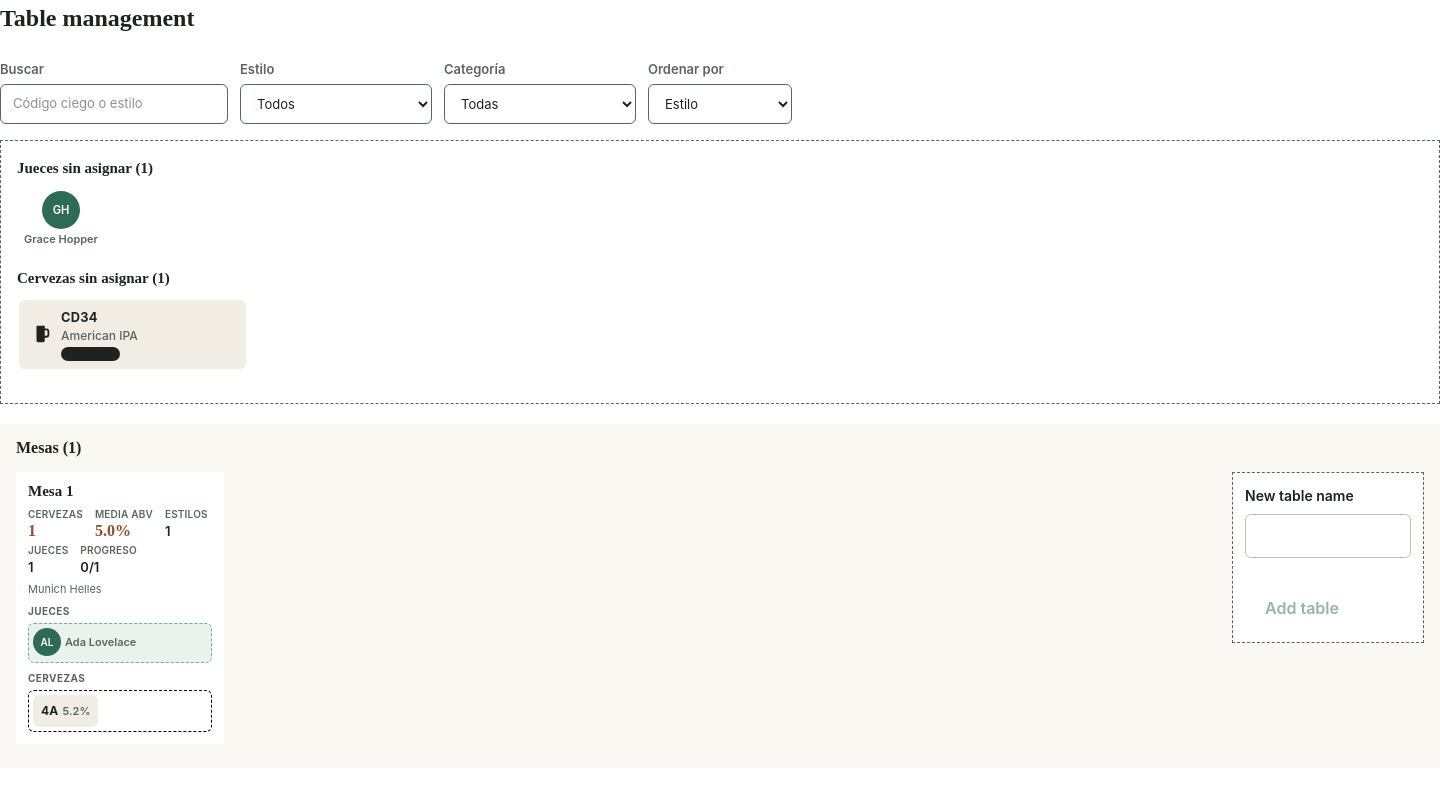
Scenario: TableBoardComponent › surfaces a validation error message when table creation fails with 400
Type "Mesa 1" into the field with id "new-table-name". click: point(1328, 536)
box: [1245,514,1411,558]
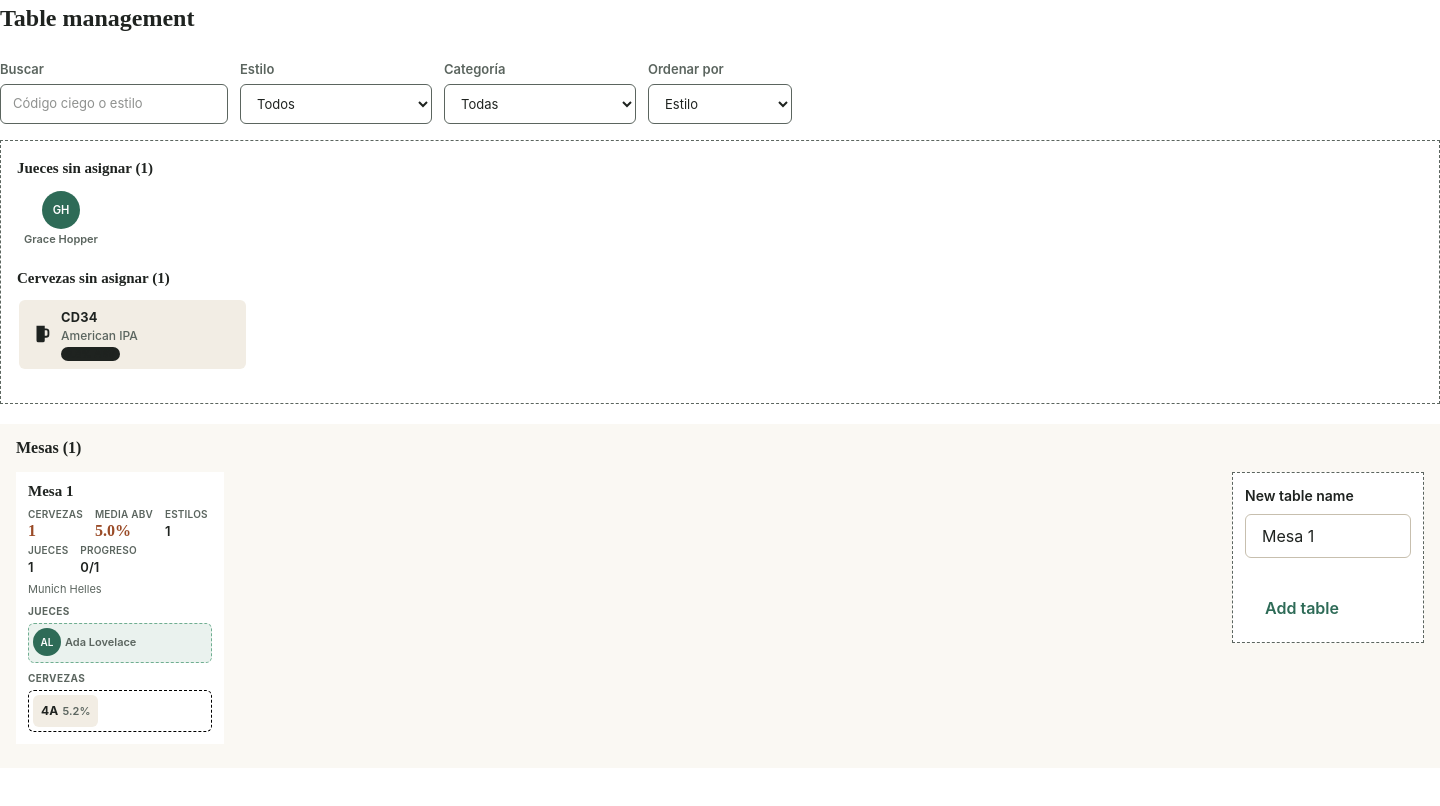
Click the button "Add table". click: point(1302, 608)
box: [1245,586,1359,630]
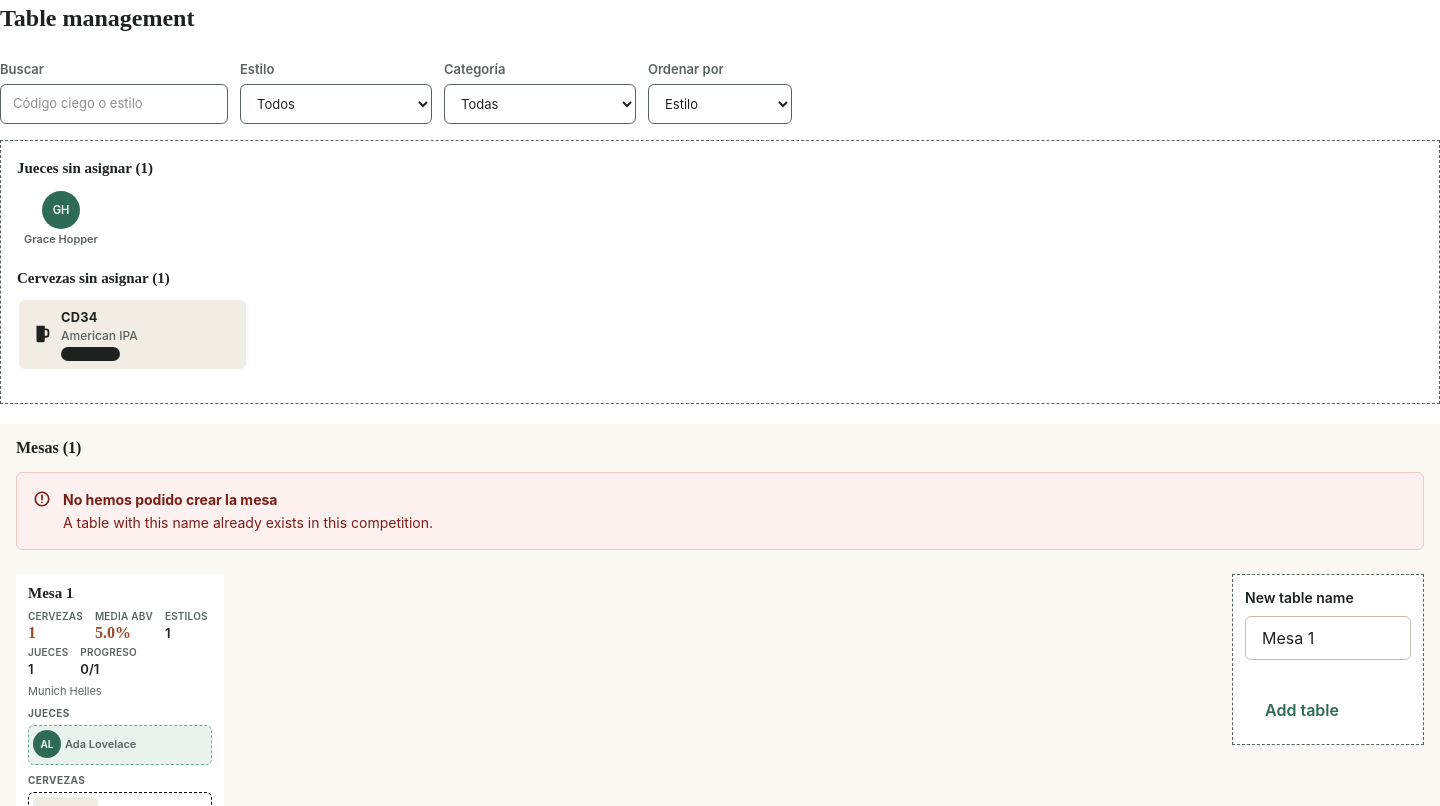
Result: the text "A table with this name already exists in this competition." is shown at [63,514,433,531]
